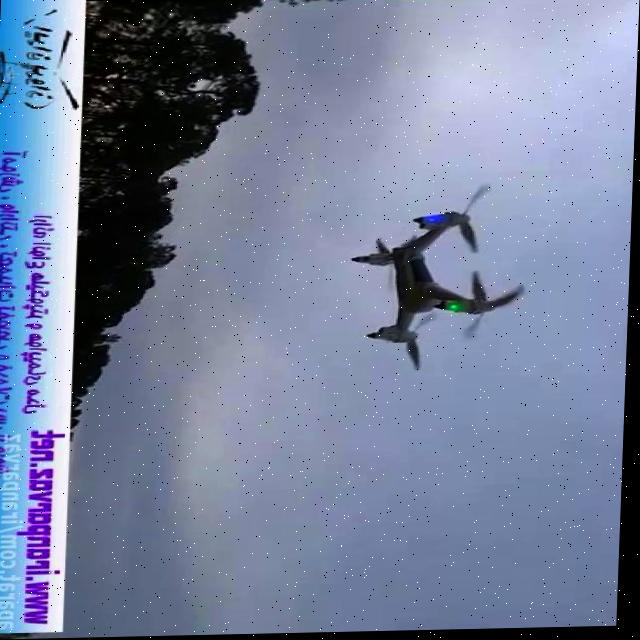drone: (346, 182, 535, 378)
